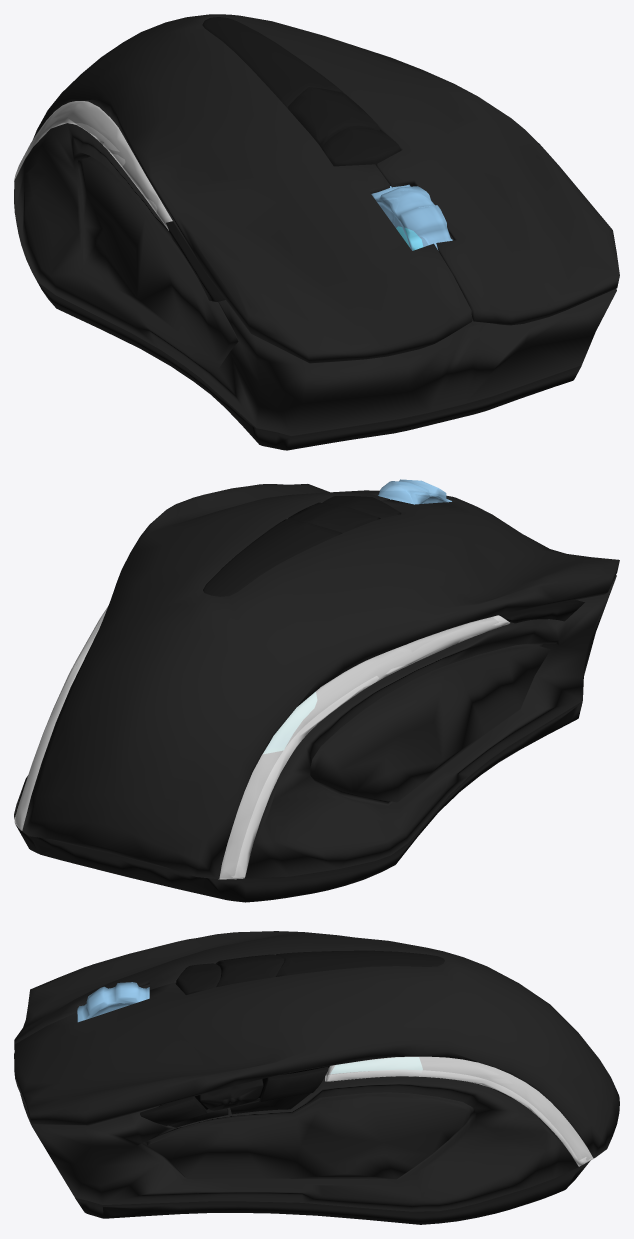
The model's file is mouse_gaming_lod1.glb.
3 views of the same model, one above another, from view 1: azimuth 30°, elevation 25°; view 2: azimuth 150°, elevation 25°; view 3: azimuth 270°, elevation 25° (orthographic). The views are drawn at different scales.
Visible parts, largest first — view 1: Mouse_Sides_RubberTop.001_0, Mouse_TopButtons_BlackGlossyPlastic.001_0, Mouse_Light_Left_GlassPlastic_0, Mouse_Wheel_WheelRubber_0, Mouse_SideRIghtButton_BlackGlossyPlastic_0; view 2: Mouse_Sides_RubberTop.001_0, Mouse_TopButtons_BlackGlossyPlastic.001_0, Mouse_Light_Left_GlassPlastic_0, Mouse_Wheel_WheelRubber_0, Mouse_SideRIghtButton_BlackGlossyPlastic_0, Icosphere_Light Inside_0; view 3: Mouse_Sides_RubberTop.001_0, Mouse_TopButtons_BlackGlossyPlastic.001_0, Mouse_Light_Left_GlassPlastic_0, Mouse_Wheel_WheelRubber_0, Icosphere_Light Inside_0.
Part boxes in pixels (x1=…): Mouse_Sides_RubberTop.001_0: x1=14, y1=14, x2=619, y2=436; Mouse_TopButtons_BlackGlossyPlastic.001_0: x1=14, y1=17, x2=581, y2=450; Mouse_Light_Left_GlassPlastic_0: x1=14, y1=101, x2=172, y2=230; Mouse_Wheel_WheelRubber_0: x1=371, y1=184, x2=452, y2=250; Mouse_SideRIghtButton_BlackGlossyPlastic_0: x1=166, y1=221, x2=225, y2=301; Mouse_Sides_RubberTop.001_0: x1=14, y1=484, x2=619, y2=878; Mouse_TopButtons_BlackGlossyPlastic.001_0: x1=15, y1=496, x2=582, y2=902; Mouse_Light_Left_GlassPlastic_0: x1=14, y1=606, x2=509, y2=879; Mouse_Wheel_WheelRubber_0: x1=378, y1=479, x2=451, y2=504; Mouse_SideRIghtButton_BlackGlossyPlastic_0: x1=499, y1=600, x2=584, y2=623; Icosphere_Light Inside_0: x1=264, y1=692, x2=316, y2=753; Mouse_Sides_RubberTop.001_0: x1=14, y1=931, x2=619, y2=1211; Mouse_TopButtons_BlackGlossyPlastic.001_0: x1=75, y1=950, x2=589, y2=1224; Mouse_Light_Left_GlassPlastic_0: x1=325, y1=1056, x2=593, y2=1166; Mouse_Wheel_WheelRubber_0: x1=77, y1=982, x2=149, y2=1022; Icosphere_Light Inside_0: x1=331, y1=1057, x2=421, y2=1073.
Bounding box in the file's own units: 6.32 × 4.08 × 11.02.
